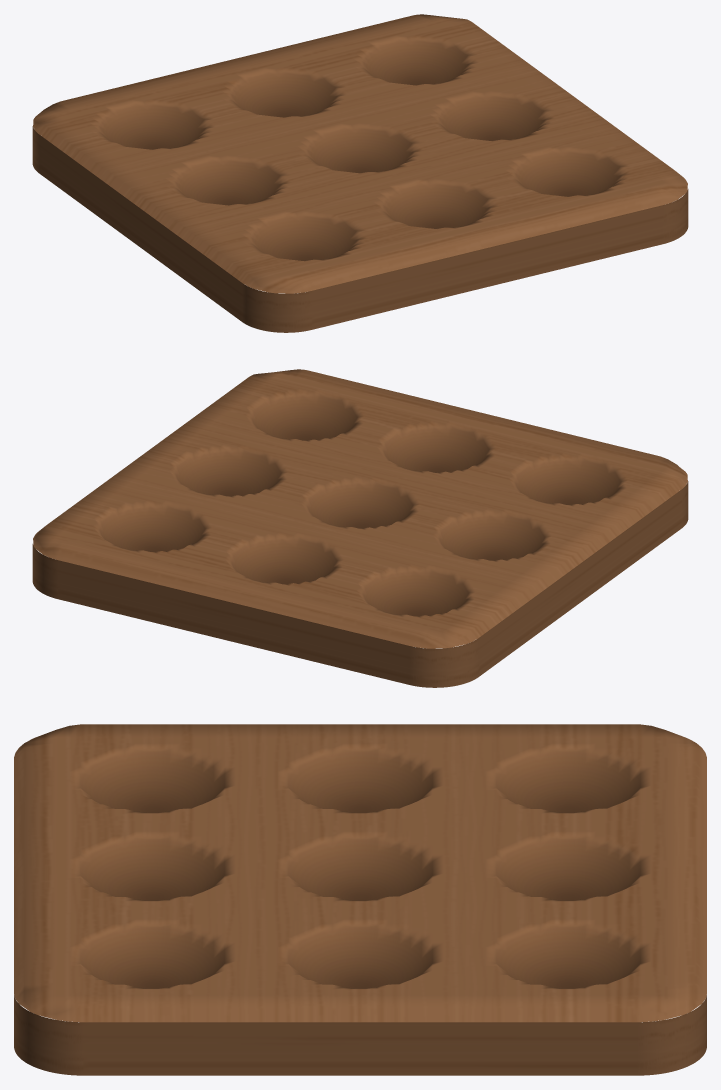
The model's file is quad.glb.
3 views of the same model, one above another, from view 1: azimuth 30°, elevation 25°; view 2: azimuth 150°, elevation 25°; view 3: azimuth 270°, elevation 25° (orthographic). The views are drawn at different scales.
Parts seen in each view (by area): view 1: quad; view 2: quad; view 3: quad.
Boxes of the visible parts, bbox=[...] form: quad: bbox=[32, 14, 688, 332]; quad: bbox=[32, 369, 688, 687]; quad: bbox=[14, 724, 706, 1075].
Bounding box in the file's own units: 0.2 × 0.02 × 0.2.
1 material, 1 textured.
